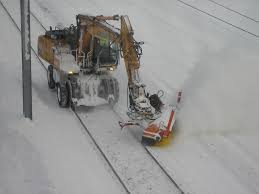excavator: (41, 12, 165, 123)
